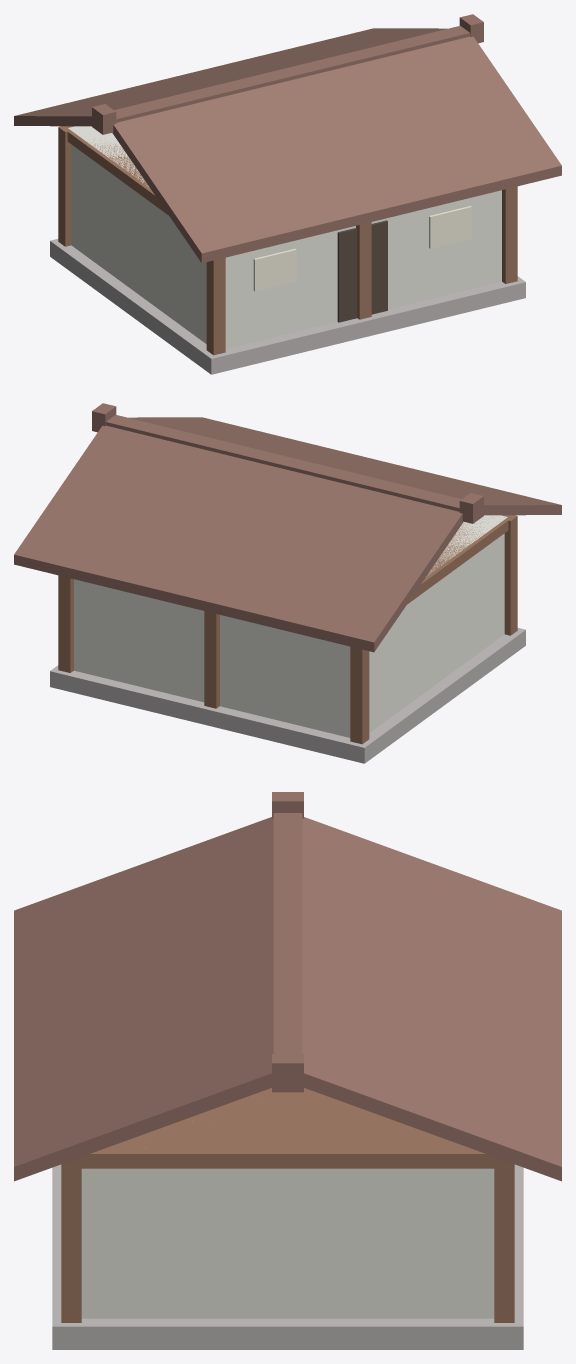
Rendered from house_s2_02.glb.
The picture shows the model from 3 angles, top to bottom: view 1: azimuth 30°, elevation 25°; view 2: azimuth 150°, elevation 25°; view 3: azimuth 270°, elevation 25°; orthographic projection. The views are drawn at different scales.
Visible parts, largest first — view 1: part01, part04, part03, part02, part00, part05; view 2: part01, part04, part03, part02; view 3: part01, part04, part02, part03.
Boxes of the visible parts, <box> form: part01: <box>14,14,561,263</box>; part04: <box>68,126,501,348</box>; part03: <box>50,239,525,374</box>; part02: <box>58,126,517,355</box>; part00: <box>337,220,387,322</box>; part05: <box>253,206,471,291</box>; part01: <box>14,403,561,652</box>; part04: <box>74,515,507,737</box>; part03: <box>50,628,525,763</box>; part02: <box>58,515,517,744</box>; part01: <box>14,792,561,1181</box>; part04: <box>81,1168,494,1318</box>; part02: <box>61,1088,514,1322</box>; part03: <box>52,1164,523,1349</box>.
Size of the model in its own units: 10.04 by 5.36 by 8.57.
